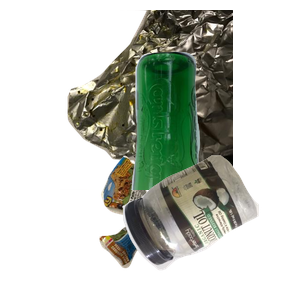glass: (129, 49, 300, 229)
metal: (60, 10, 300, 190)
plastic: (120, 152, 300, 300)
trash: (97, 151, 283, 300)
